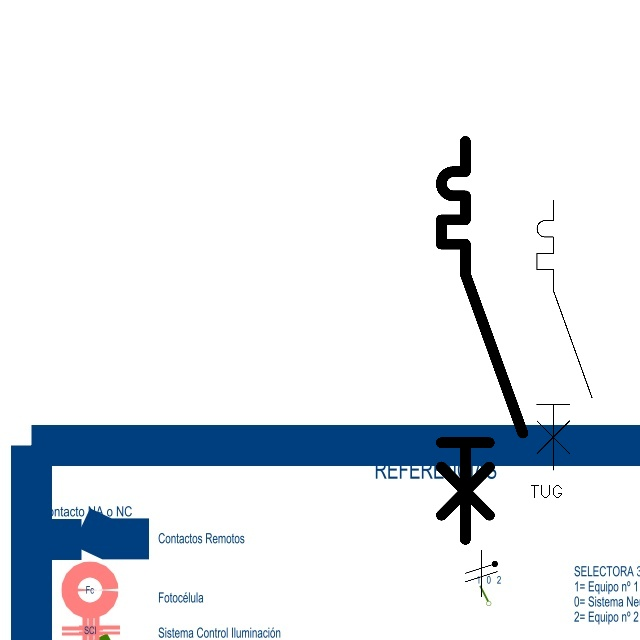interruptor_termomagnetico: (431, 131, 533, 549), (530, 193, 599, 477)
